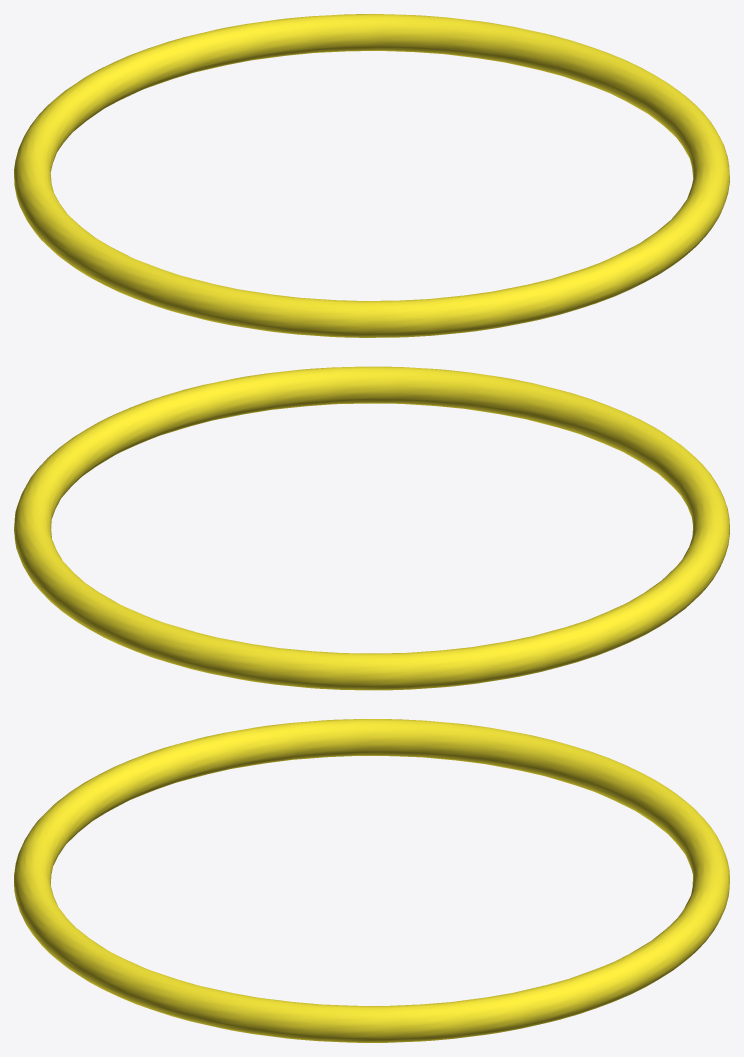
The picture shows the model from 3 angles, top to bottom: view 1: azimuth 30°, elevation 25°; view 2: azimuth 150°, elevation 25°; view 3: azimuth 270°, elevation 25°; orthographic projection.
Visible parts, largest first — view 1: Torus.002; view 2: Torus.002; view 3: Torus.002.
Part boxes in pixels (x1=…): Torus.002: x1=14, y1=14, x2=729, y2=337; Torus.002: x1=14, y1=366, x2=729, y2=690; Torus.002: x1=14, y1=719, x2=729, y2=1042.
Size of the model in its own units: 54.56 by 54.56 by 2.82.
